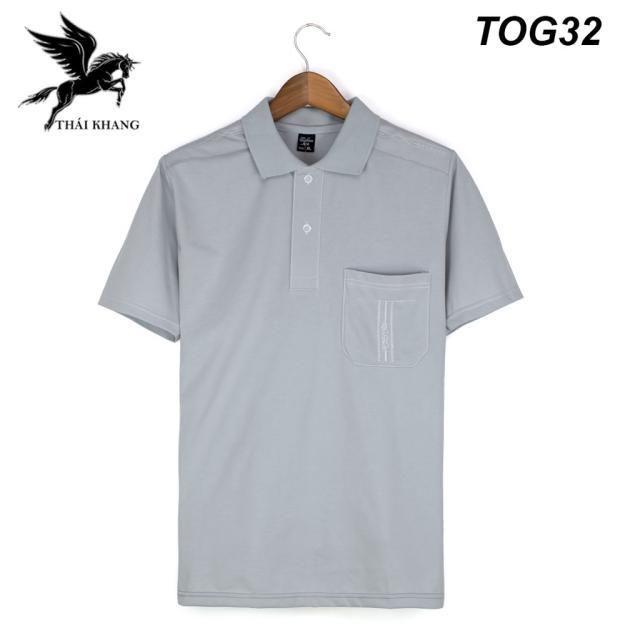Shirt: (100, 88, 528, 612)
